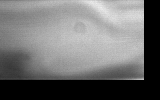cell: (57, 13, 102, 39), (66, 4, 97, 25), (69, 18, 90, 38), (75, 21, 92, 38), (71, 22, 87, 37)
